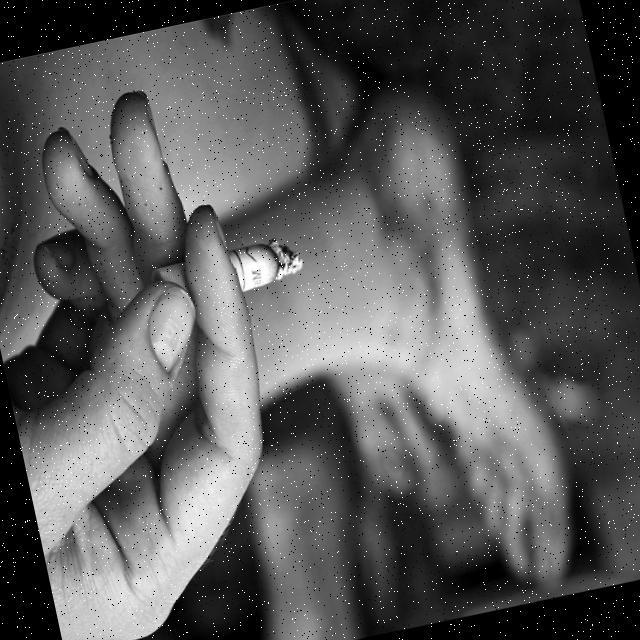cigarette: (217, 221, 327, 292)
